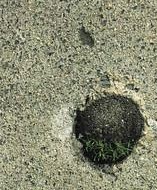Spalling: (73, 93, 145, 167)
